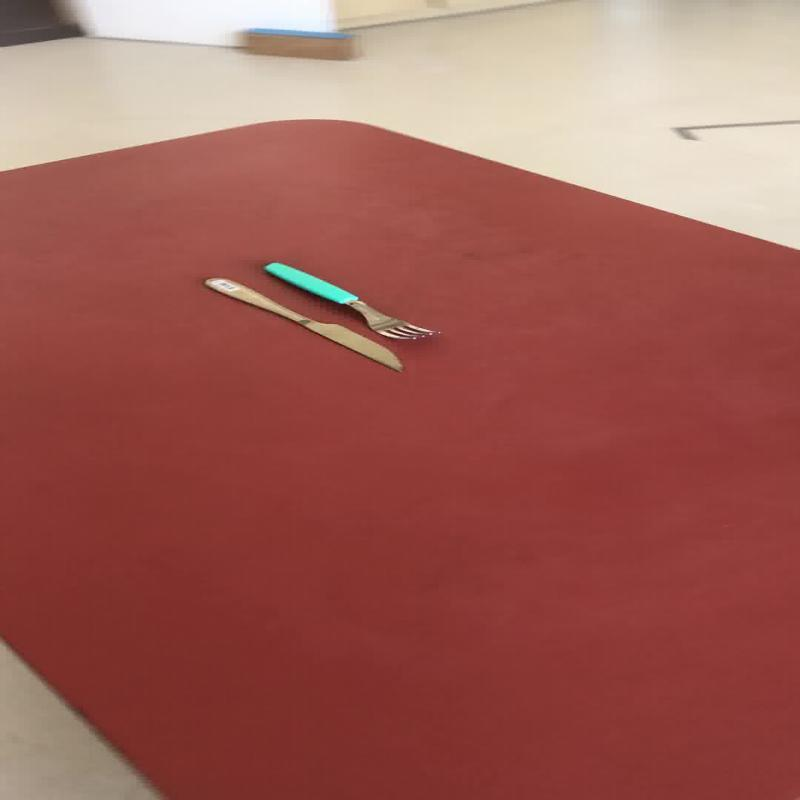fork: (260, 260, 440, 340)
knife: (200, 276, 403, 372)
